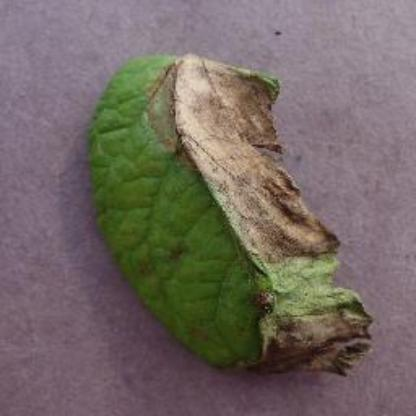Late-Blight: (80, 47, 376, 377)
